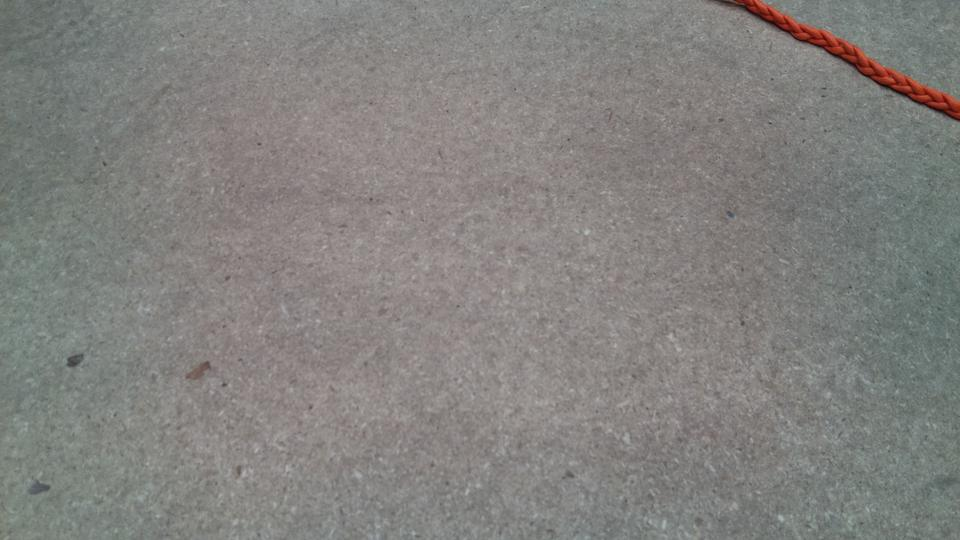rope: (741, 1, 959, 114)
